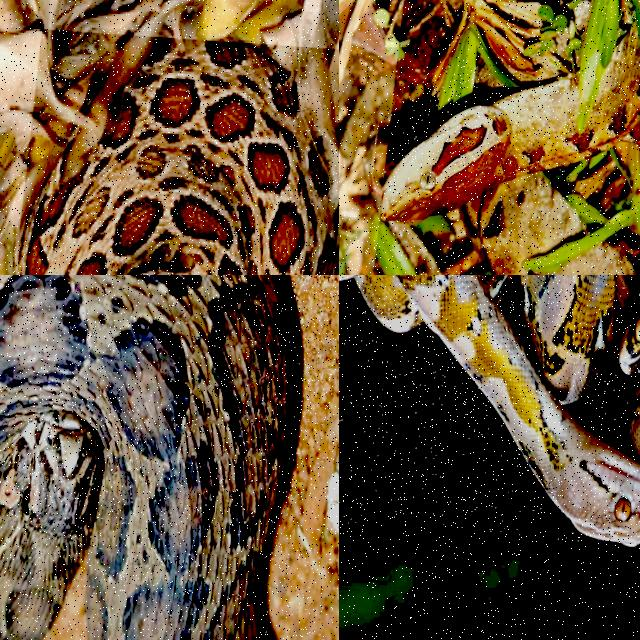Calloselasma rhodostoma: (380, 26, 639, 274)
Daboia siamensis: (0, 275, 286, 639), (15, 40, 337, 274)
Malayopython reticulatus: (354, 275, 639, 543)
snake: (0, 275, 286, 639), (354, 275, 639, 543), (15, 40, 337, 274), (380, 26, 639, 274)
